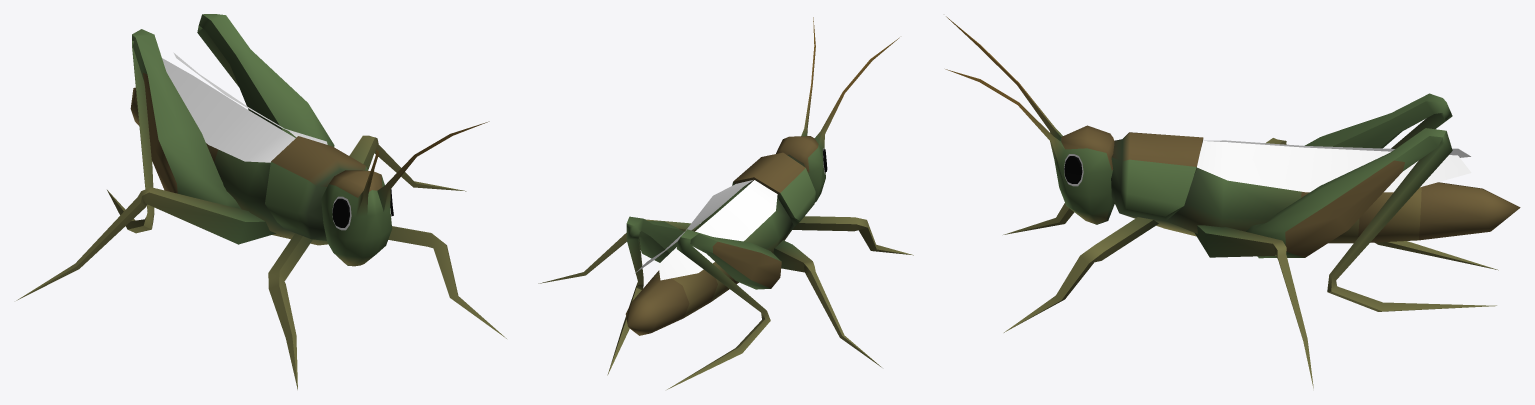
Rendered from animals-insects-grasshopper_v1.fbx.
The picture shows the model from 3 angles, left to right: view 1: azimuth 30°, elevation 25°; view 2: azimuth 150°, elevation 25°; view 3: azimuth 270°, elevation 25°; orthographic projection. The views are drawn at different scales.
Parts seen in each view (by area): view 1: Grasshopper_base, Grasshopper_transp; view 2: Grasshopper_base, Grasshopper_transp; view 3: Grasshopper_base, Grasshopper_transp.
Boxes of the visible parts, x1,y1,x2,y2 form: Grasshopper_base: (16, 14, 506, 389); Grasshopper_transp: (162, 52, 327, 162); Grasshopper_base: (538, 17, 913, 389); Grasshopper_transp: (635, 180, 777, 280); Grasshopper_base: (945, 16, 1520, 388); Grasshopper_transp: (1197, 140, 1471, 192).
Bounding box in the file's own units: 4.17 × 2.25 × 4.77.
